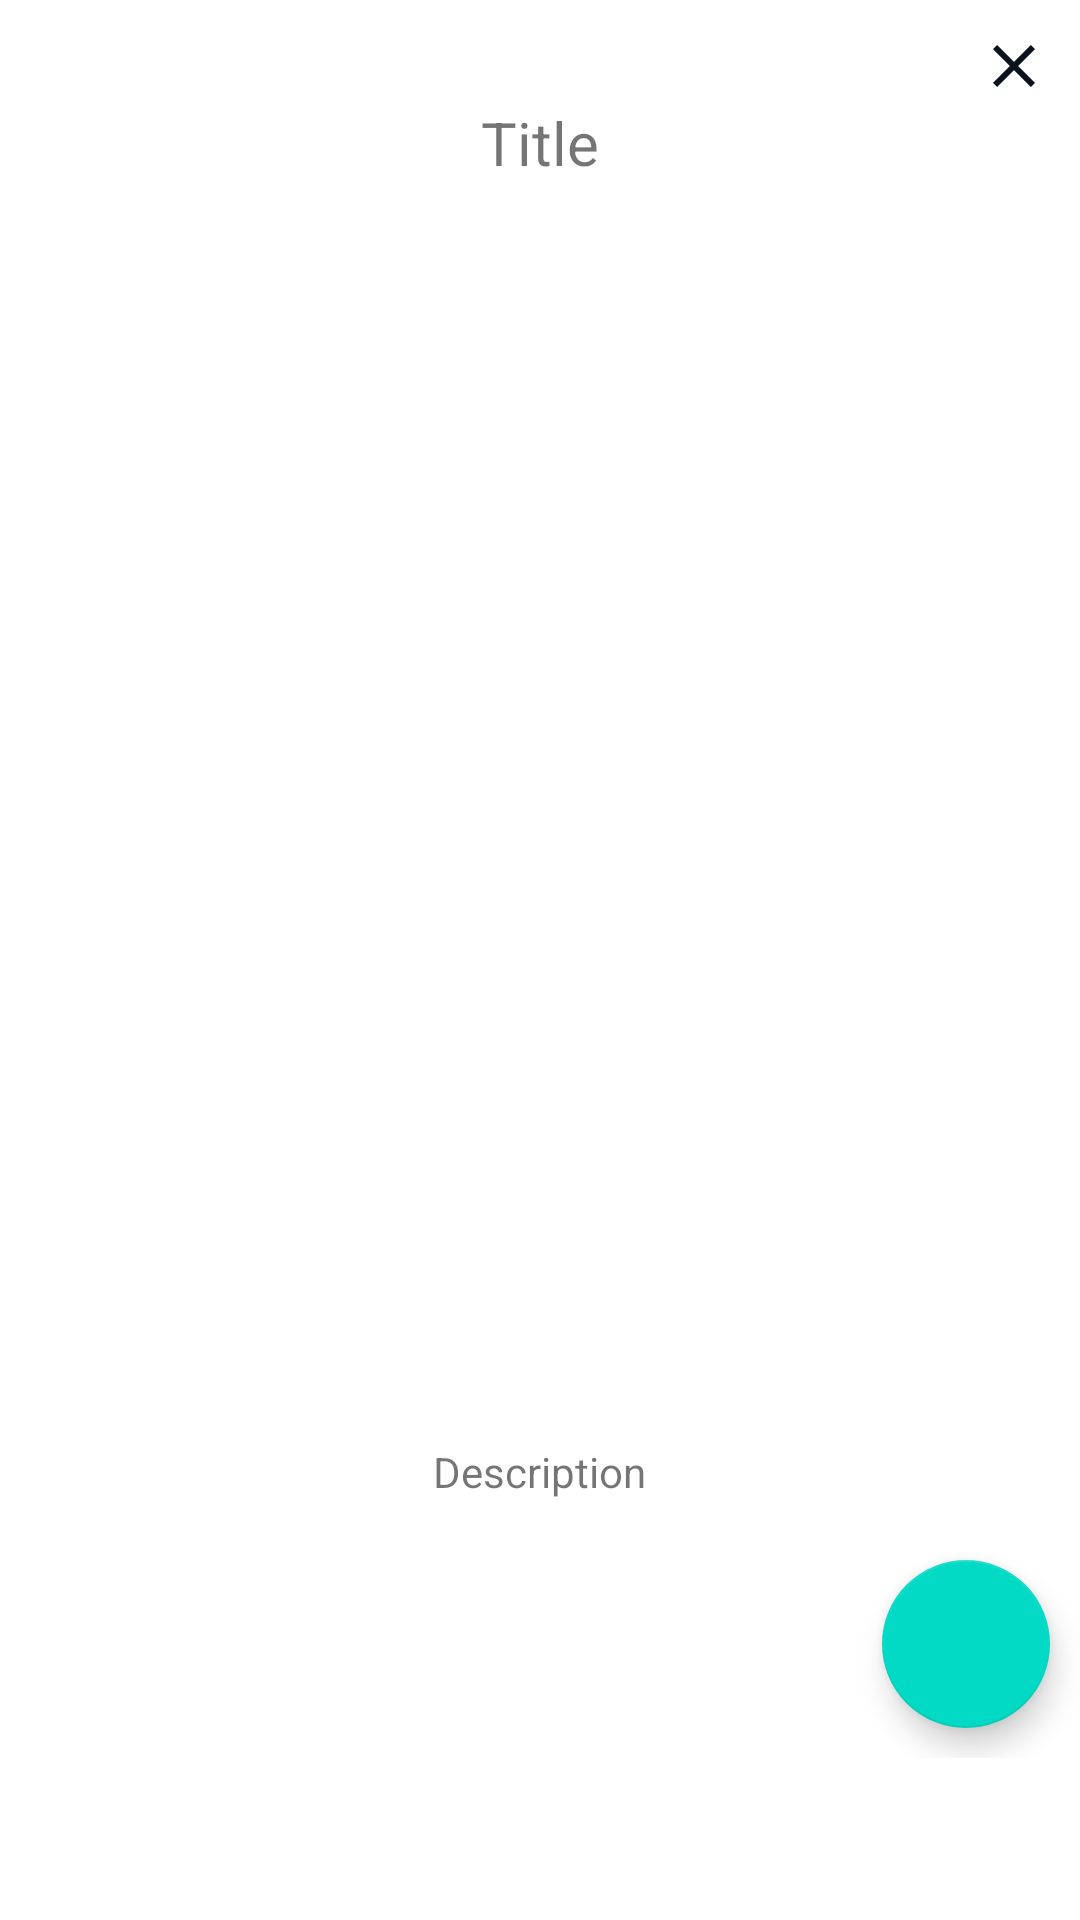

Icon bounding boxes for this 1080*1920 phone screenshot, format (x1, y1, x2, y2):
close: (993, 45, 1035, 87)
